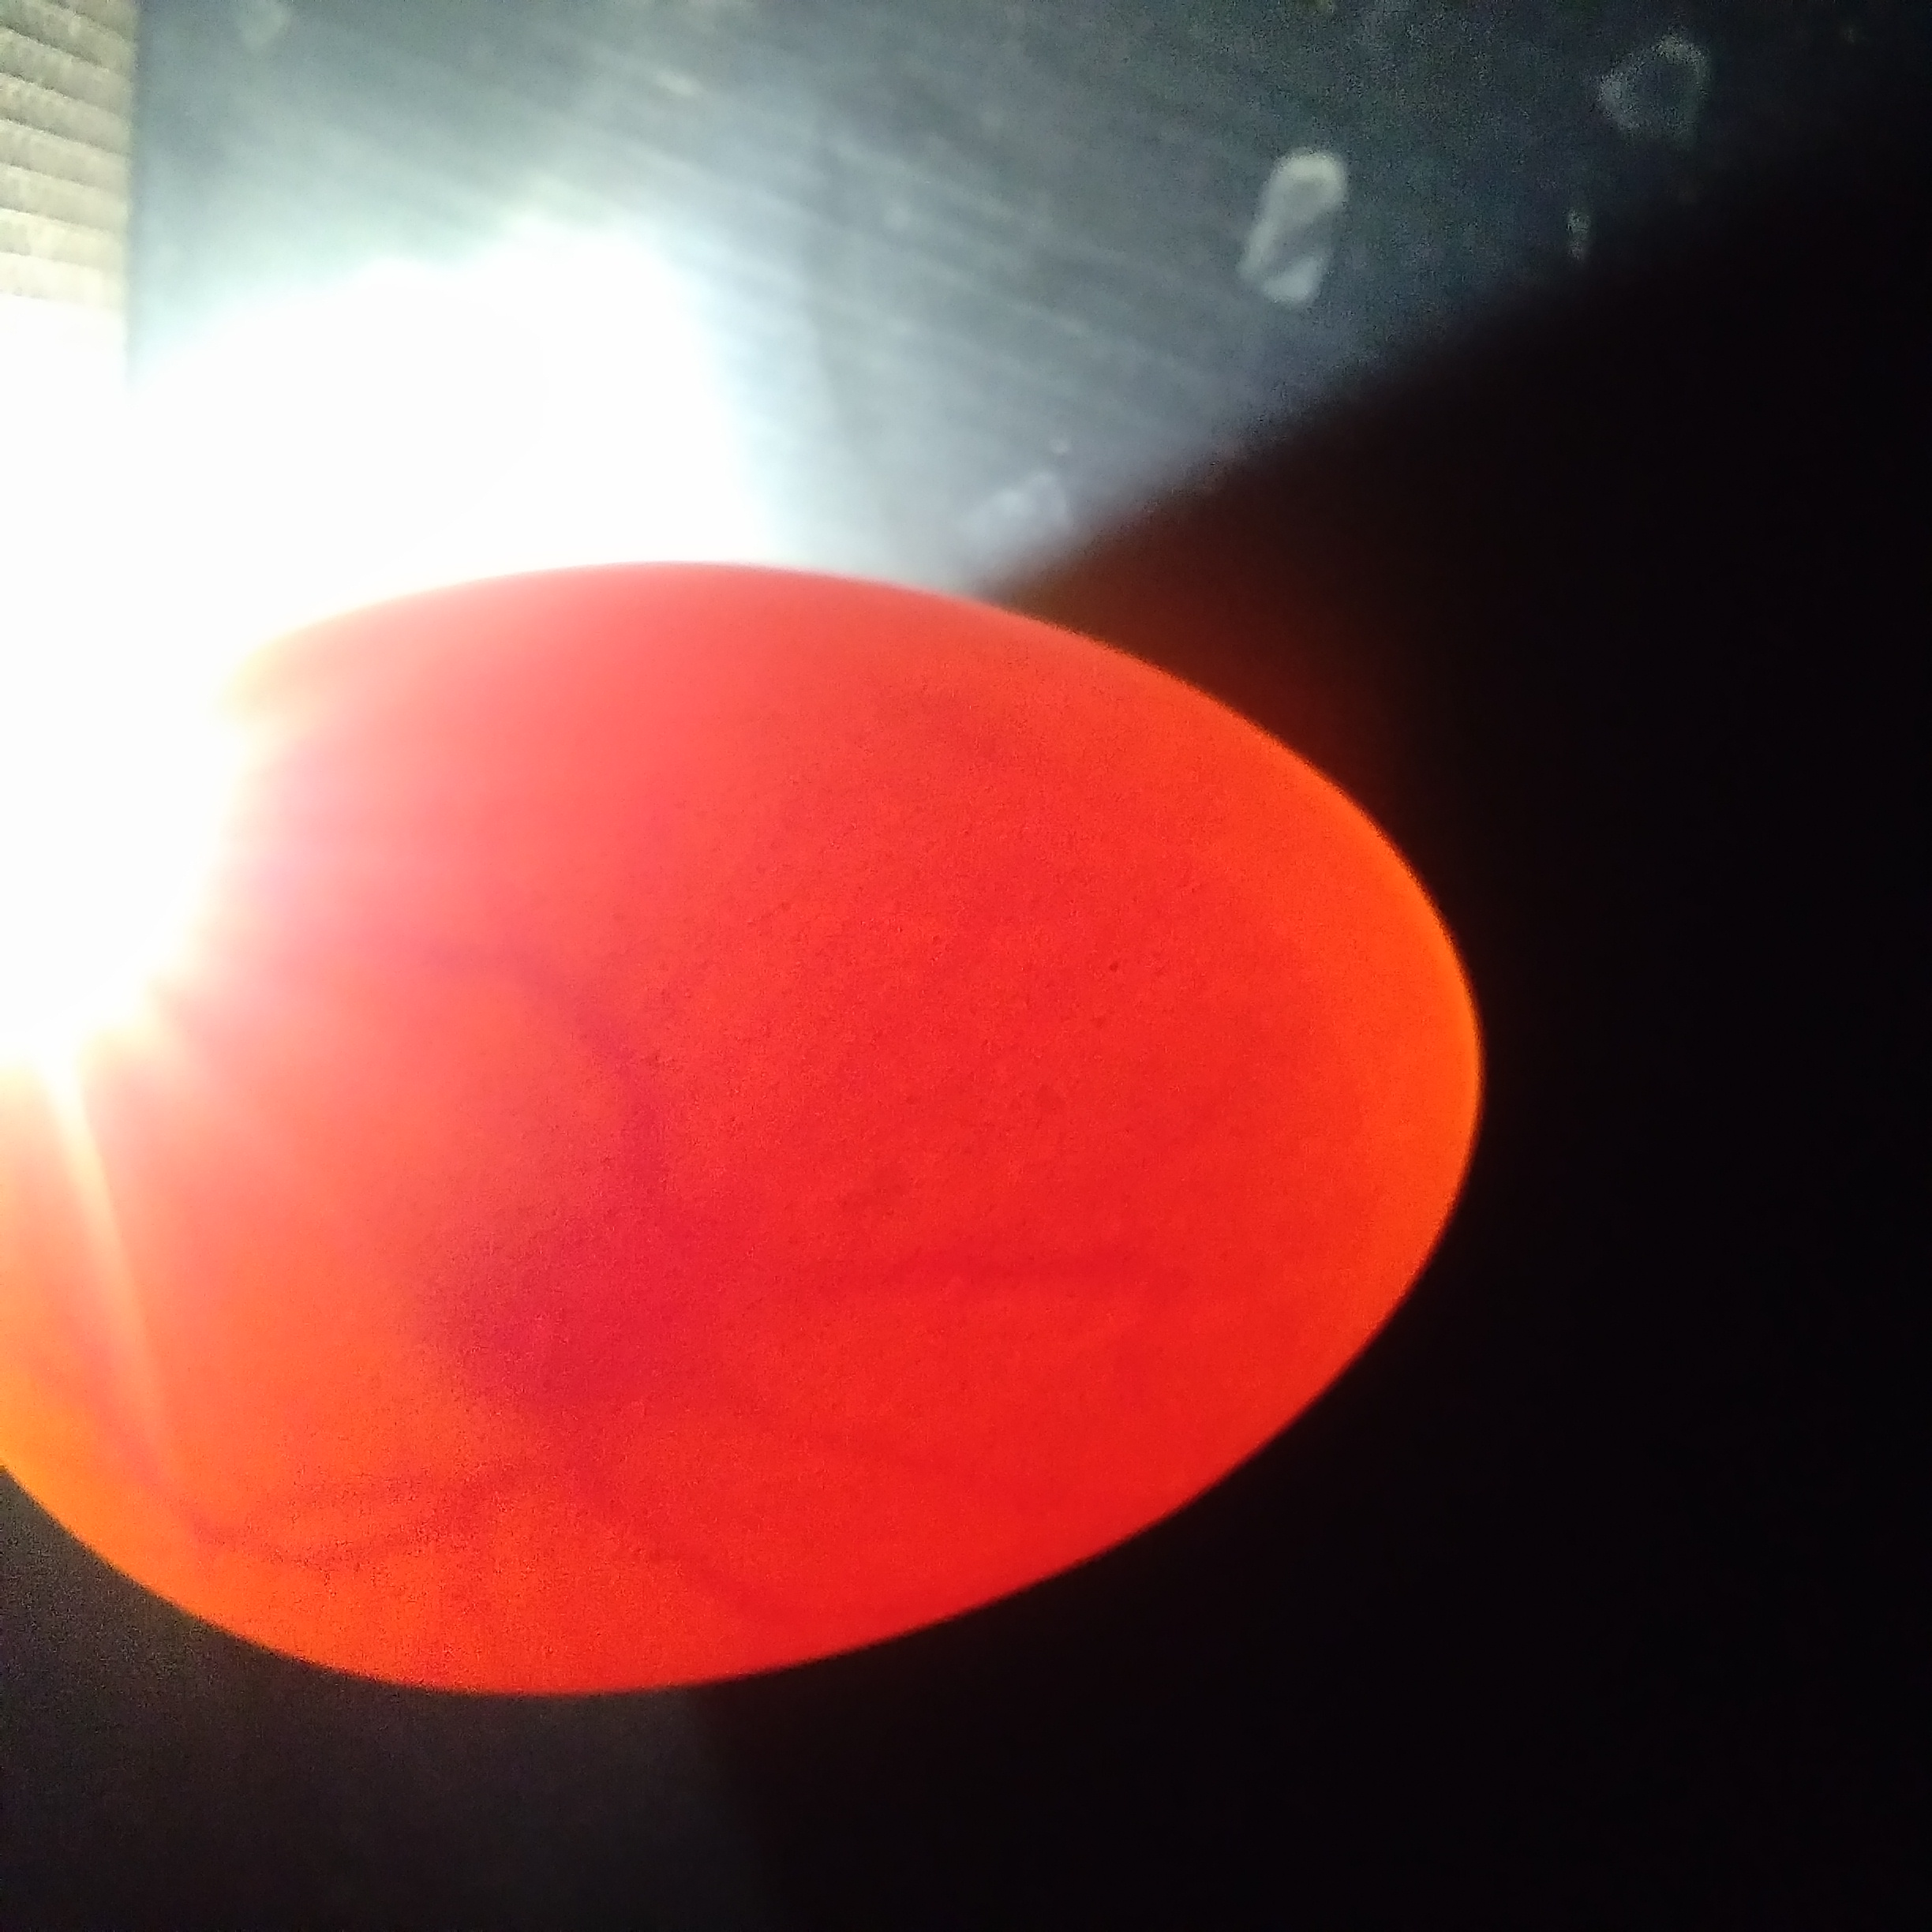bloodcell: (835, 1017, 1152, 1495), (382, 934, 750, 1154)
embryo: (419, 1178, 752, 1445)
